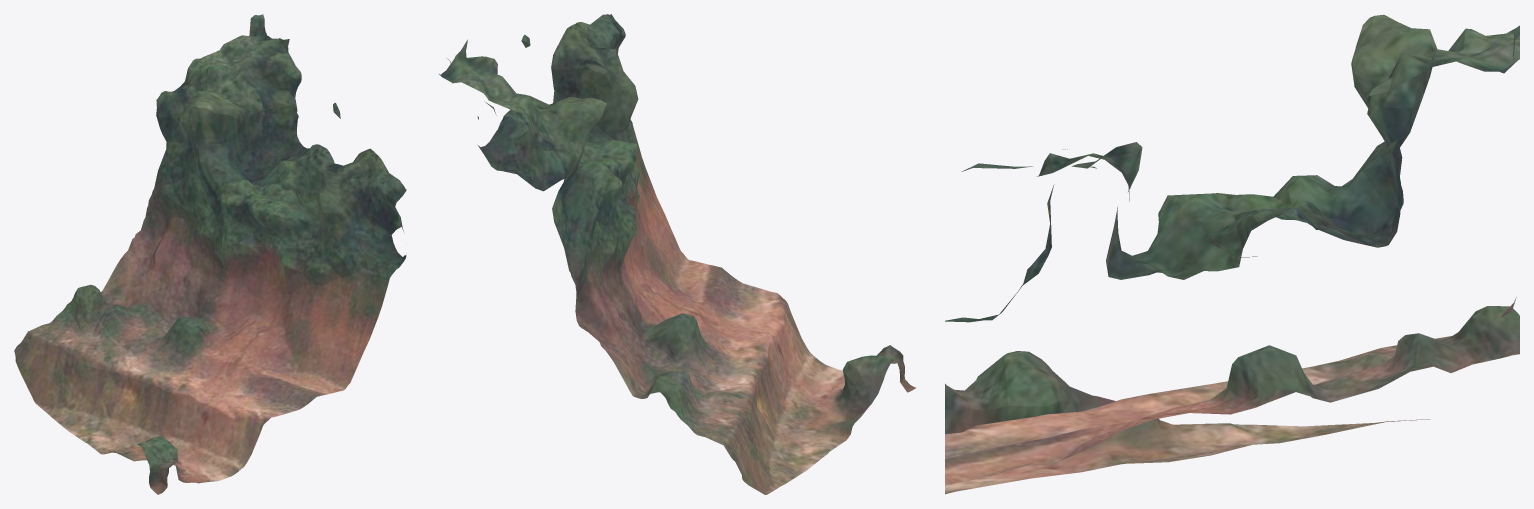
Rendered from Tile__005__001_L21_0003200.glb.
3 views of the same model, side by side, from view 1: azimuth 30°, elevation 25°; view 2: azimuth 150°, elevation 25°; view 3: azimuth 270°, elevation 25° (orthographic). The views are drawn at different scales.
Parts seen in each view (by area): view 1: root; view 2: root; view 3: root.
Part boxes in pixels (left/top/right/bottom): root: left=14, top=14, right=406, bottom=494; root: left=439, top=14, right=915, bottom=494; root: left=945, top=14, right=1519, bottom=494.
Size of the model in its own units: 12.63 by 15.41 by 12.63.
1 material, 1 textured.
